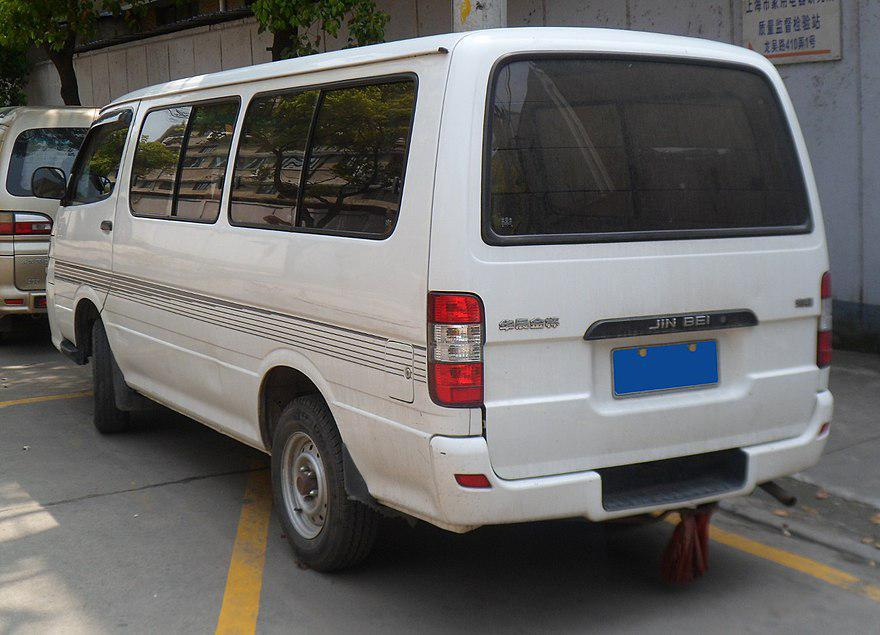van: (51, 37, 843, 560)
